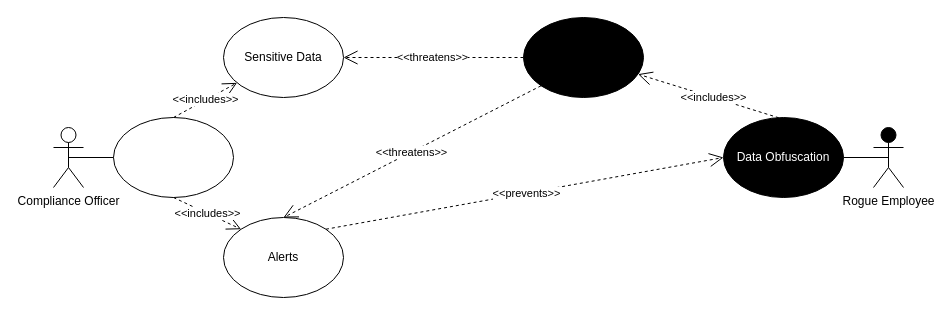
Image size: 951x315. Some labels were removed from this diagram. The shapes that lost their labels are listed below. From the top down, each one's box as (x1, y1, x2, y2) in pixels, then its label:
(522, 16, 644, 98): Data Encryption
(112, 116, 234, 198): Monitor Network Traffic
